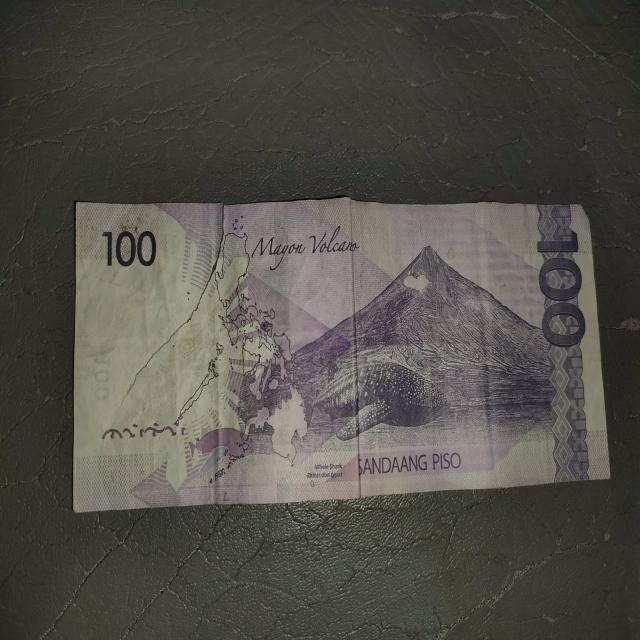broken: (74, 204, 611, 517)
torn: (108, 190, 235, 407)
